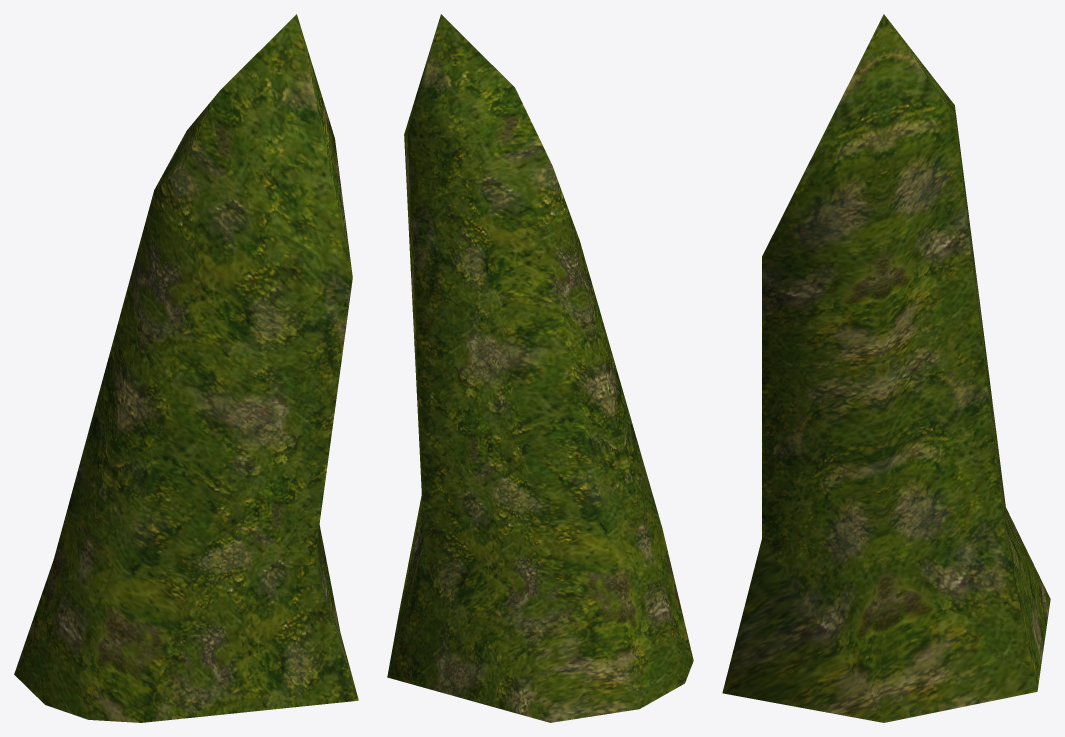
The model's file is INST_OH_ROCK_01.fbx.
3 renders of one model, left to right at view 1: azimuth 30°, elevation 25°; view 2: azimuth 150°, elevation 25°; view 3: azimuth 270°, elevation 25°, orthographic. The views are drawn at different scales.
Parts seen in each view (by area): view 1: INST_OH_ROCK_01; view 2: INST_OH_ROCK_01; view 3: INST_OH_ROCK_01.
Part boxes in pixels (x1,y1,x2,y2): INST_OH_ROCK_01: [14, 14, 358, 722]; INST_OH_ROCK_01: [387, 14, 693, 722]; INST_OH_ROCK_01: [722, 14, 1050, 722].
Size of the model in its own units: 11730 by 23878 by 10361.
1 material, 1 textured.
